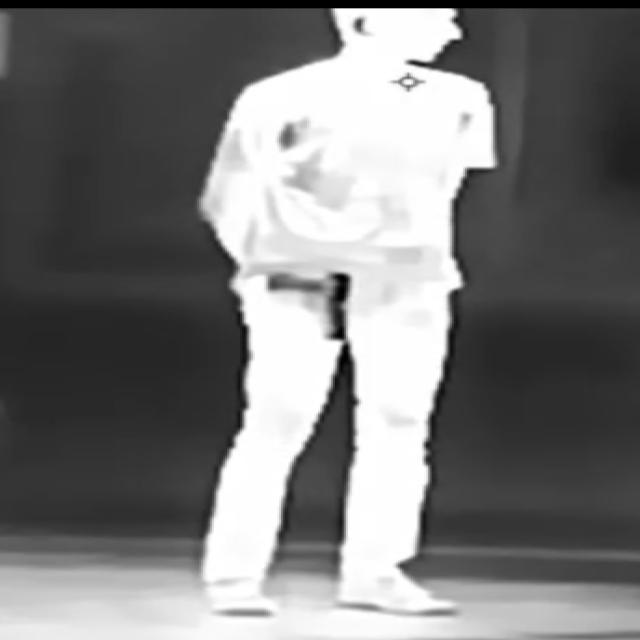Weapon: (250, 254, 377, 357)
